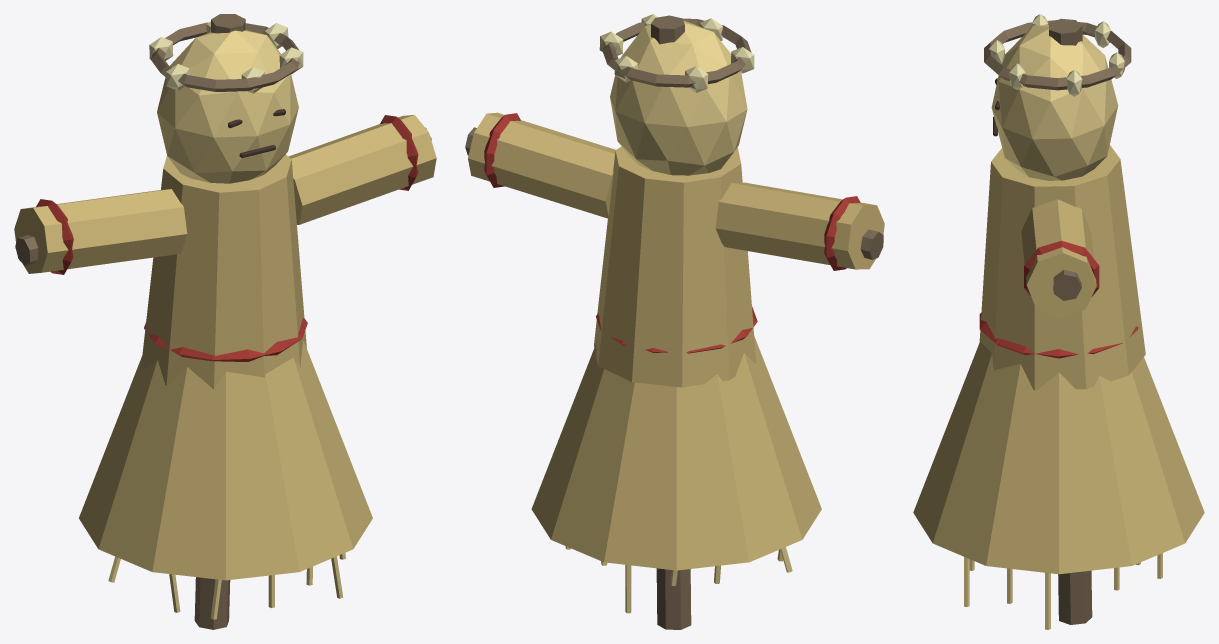
The model's file is straw_doll.glb.
3 renders of one model, left to right at view 1: azimuth 30°, elevation 25°; view 2: azimuth 150°, elevation 25°; view 3: azimuth 270°, elevation 25°, orthographic.
Parts seen in each view (by area): view 1: straw_doll; view 2: straw_doll; view 3: straw_doll.
Part boxes in pixels (x1,y1,x2,y2): straw_doll: [14, 14, 436, 629]; straw_doll: [465, 14, 884, 629]; straw_doll: [913, 14, 1204, 629].
Size of the model in its own units: 1.72 by 2.44 by 1.08.
